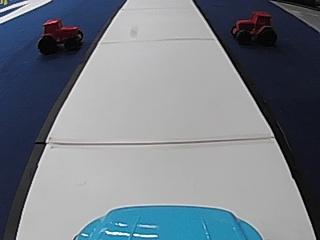tractor: (229, 8, 276, 47), (37, 15, 84, 54)
